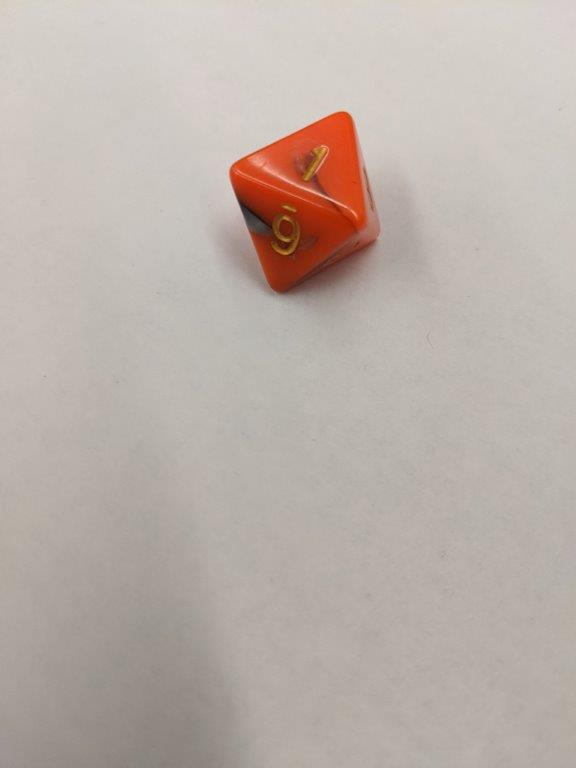d8-1: (228, 109, 381, 296)
